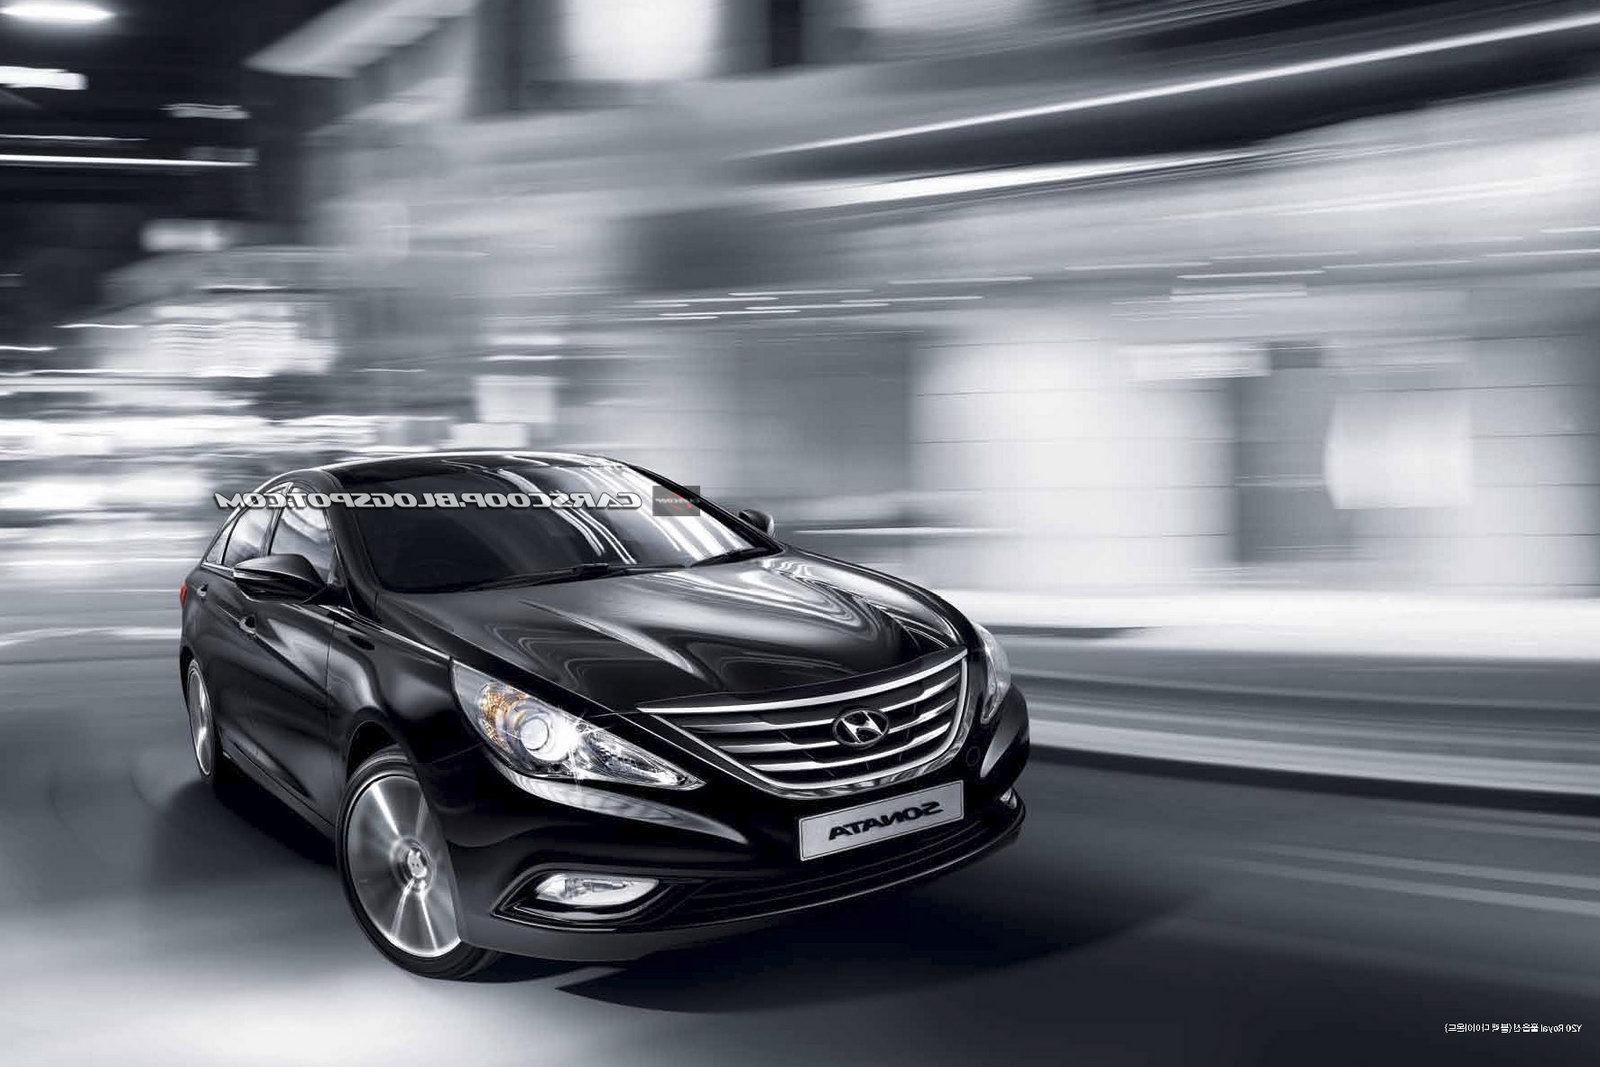car: (73, 404, 1082, 1011)
